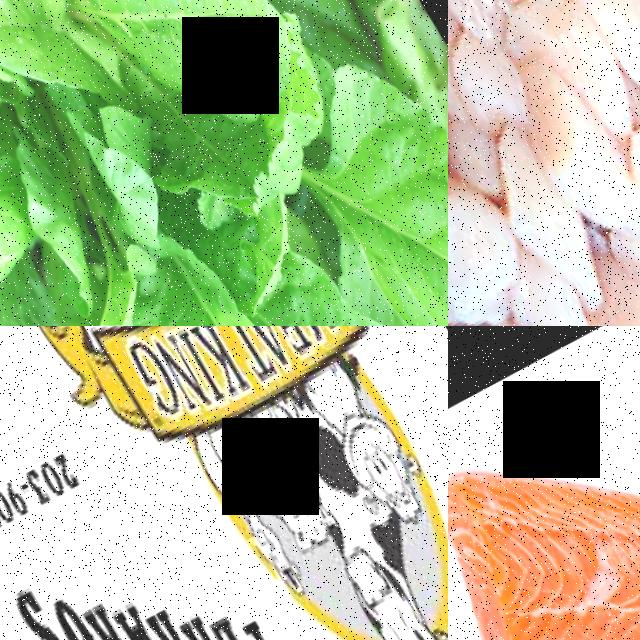salmon: (448, 326, 640, 640)
sea scallops: (497, 64, 640, 244), (559, 0, 640, 106)
spinach: (278, 47, 448, 326), (52, 0, 314, 151), (0, 0, 123, 146), (233, 244, 448, 326), (0, 126, 43, 326)
